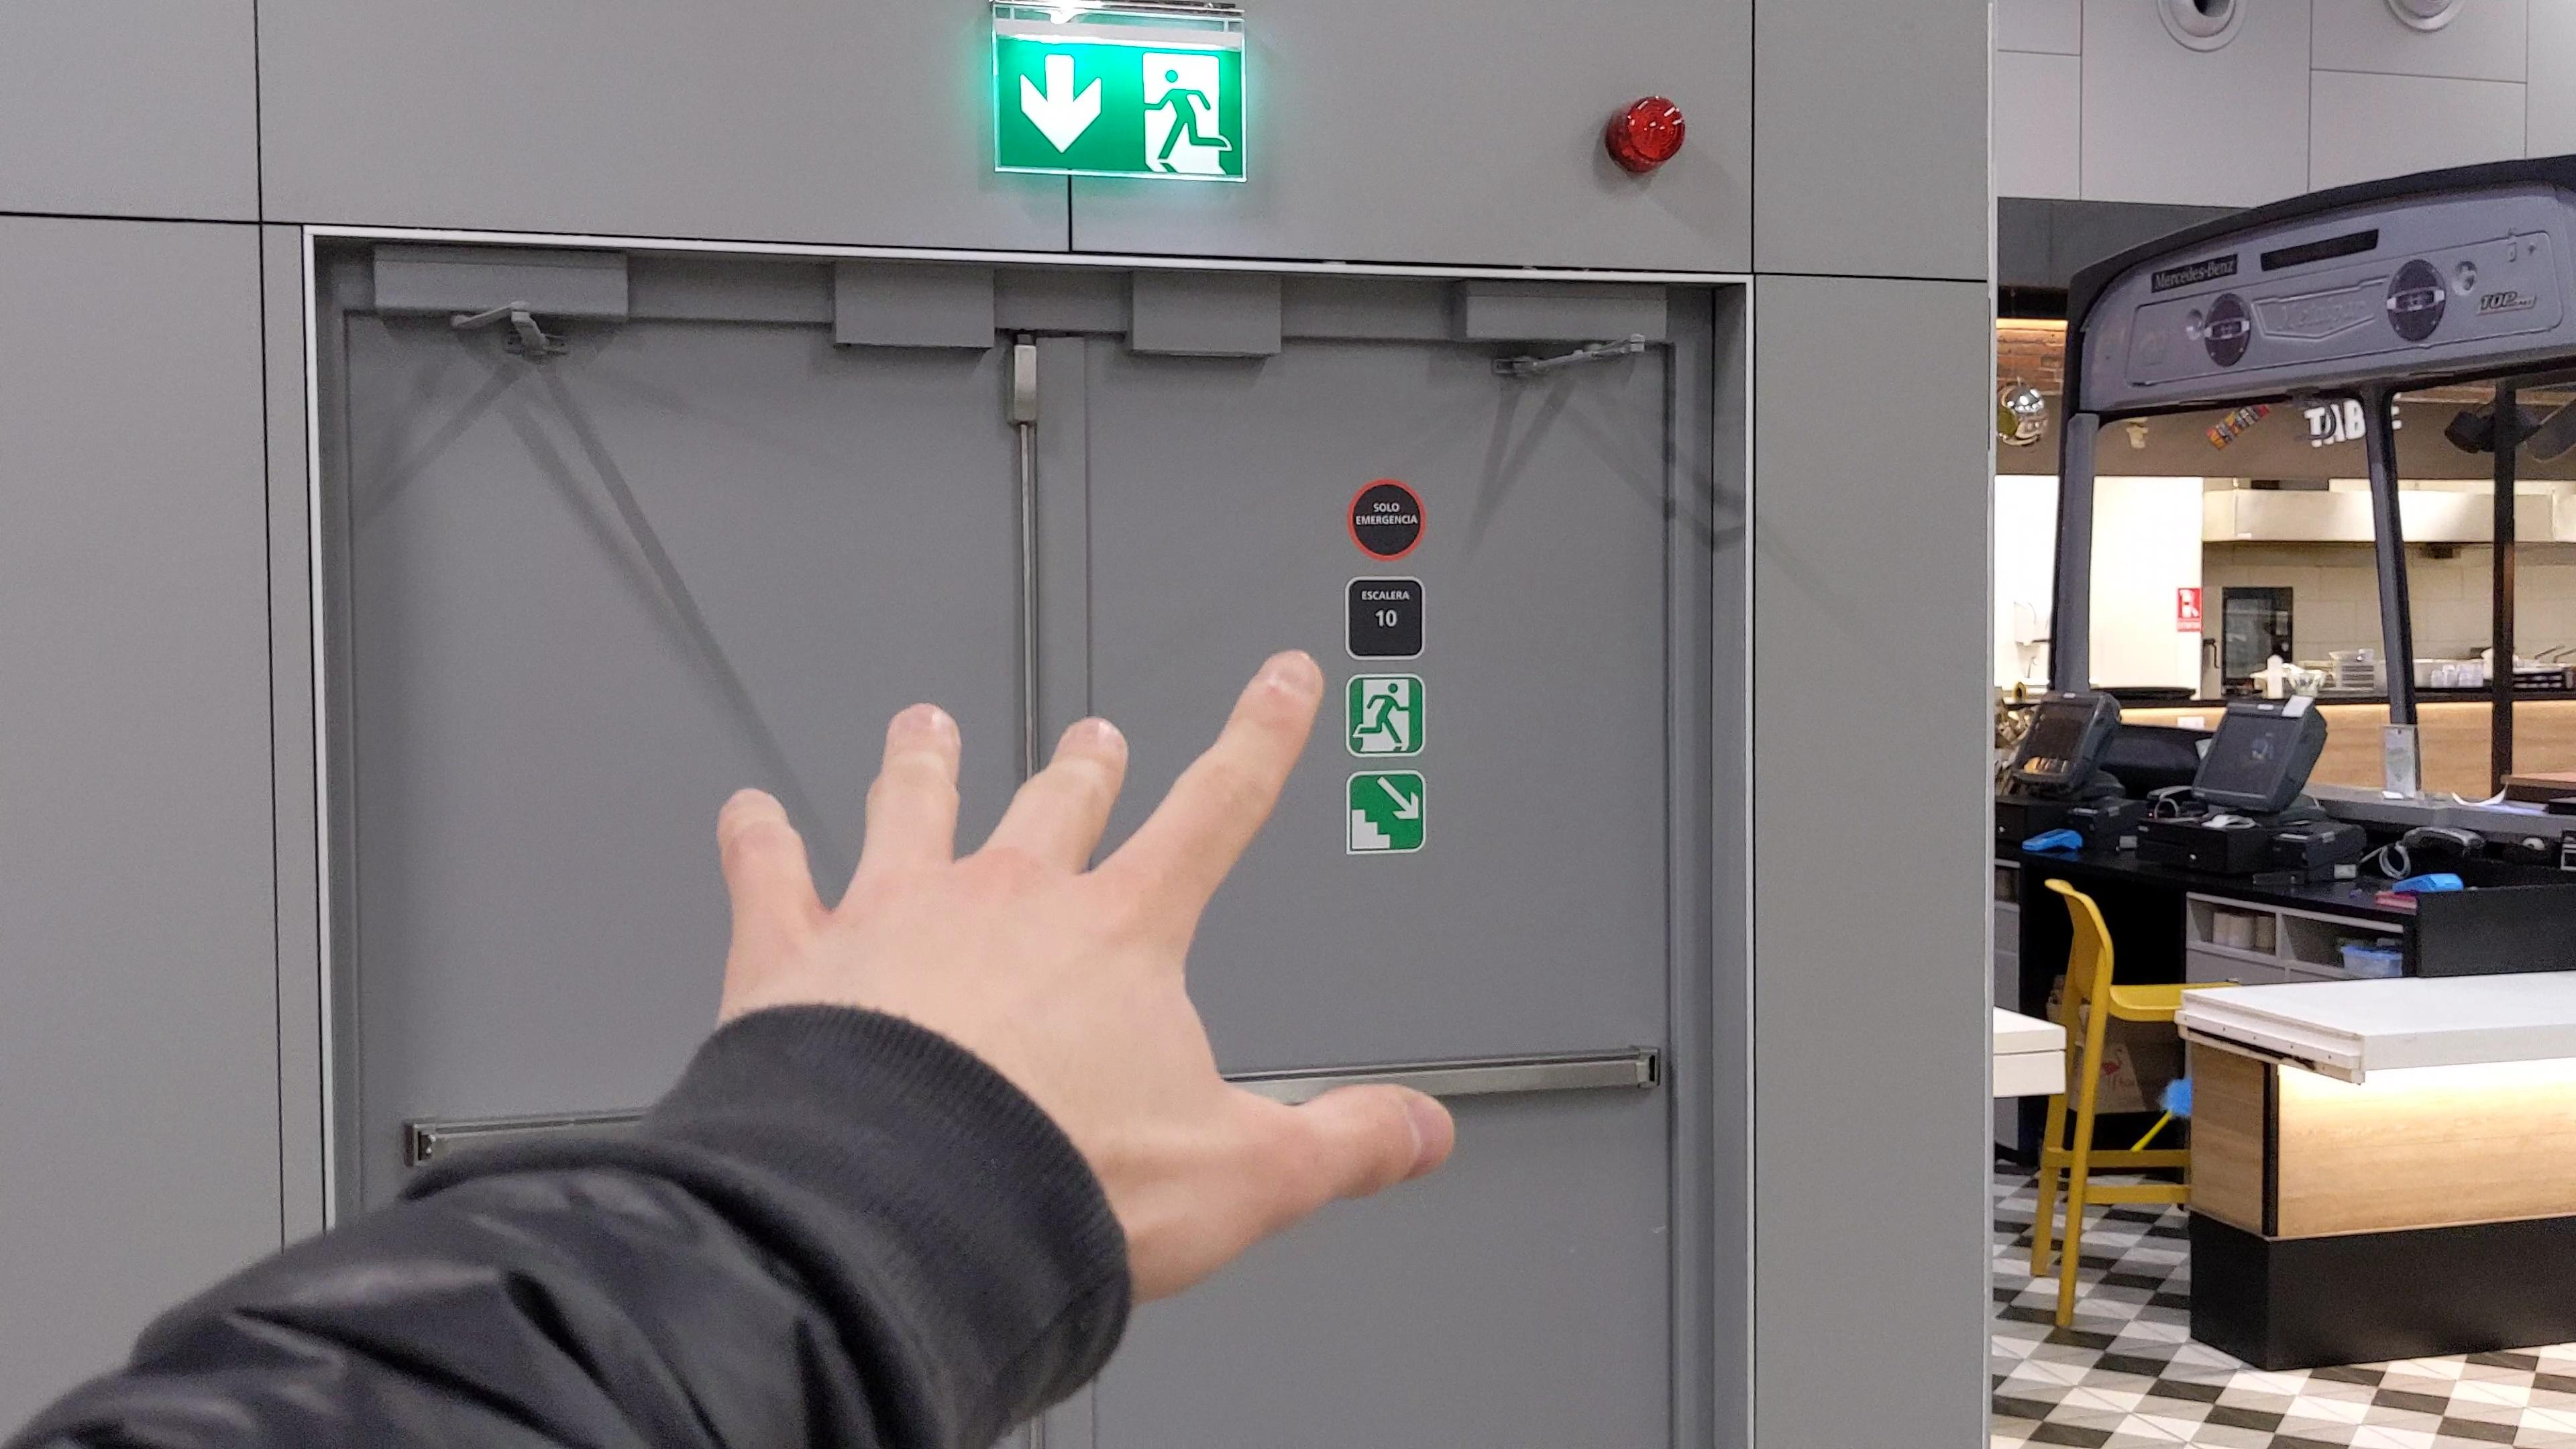emergency exit: (1138, 51, 1246, 168), (1352, 678, 1412, 759)
emergency left arrow: (1021, 58, 1111, 152)
